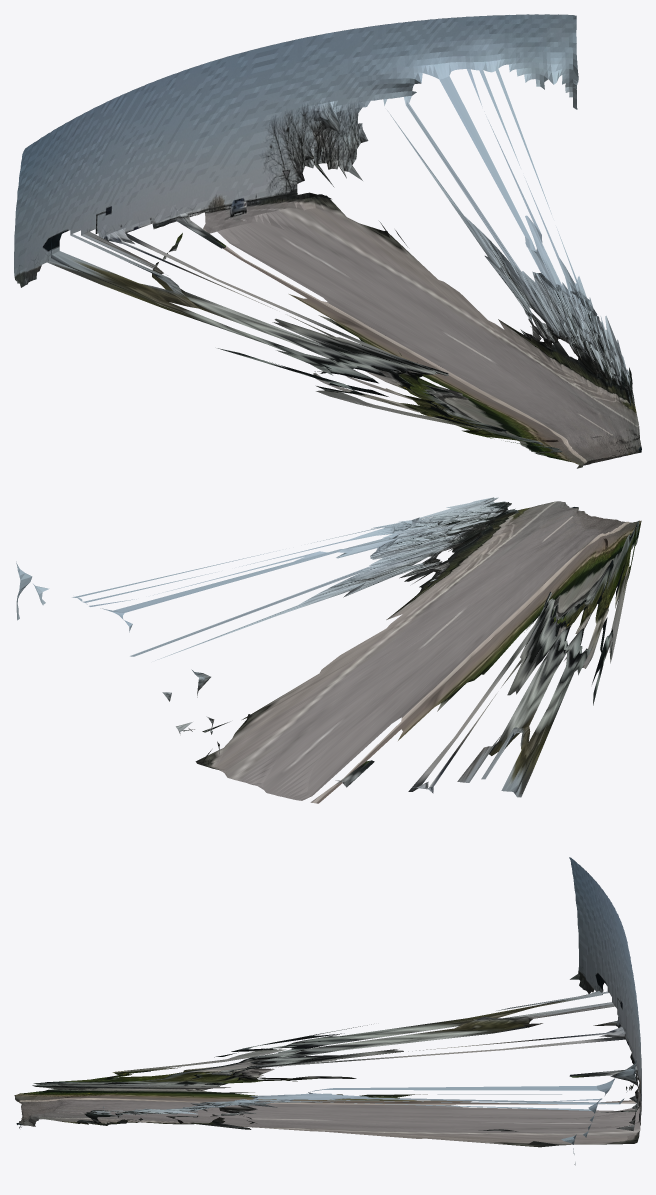
3 views of the same model, one above another, from view 1: azimuth 30°, elevation 25°; view 2: azimuth 150°, elevation 25°; view 3: azimuth 270°, elevation 25° (orthographic). The views are drawn at different scales.
Visible parts, largest first — view 1: defaultobject; view 2: defaultobject; view 3: defaultobject.
Part boxes in pixels (box(x1,y1,x2,y2)): defaultobject: box(14, 14, 641, 468); defaultobject: box(16, 497, 641, 803); defaultobject: box(14, 857, 641, 1165).
Bounding box in the file's own units: 40.94 × 13.54 × 44.61.
1 material, 1 textured.
